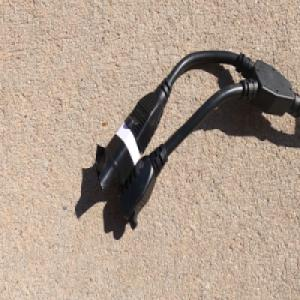Wire: (94, 48, 300, 230)
